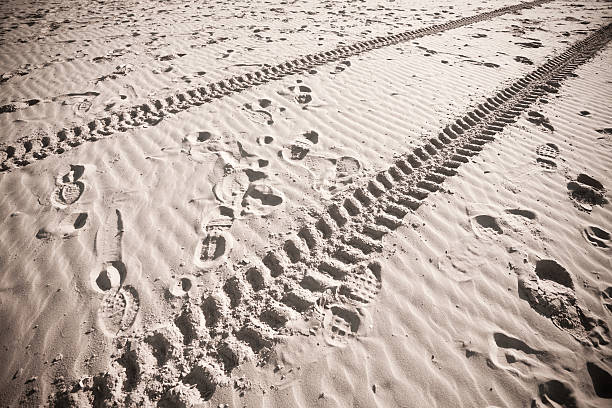vehicle_track: (52, 25, 611, 405), (0, 0, 551, 172)
